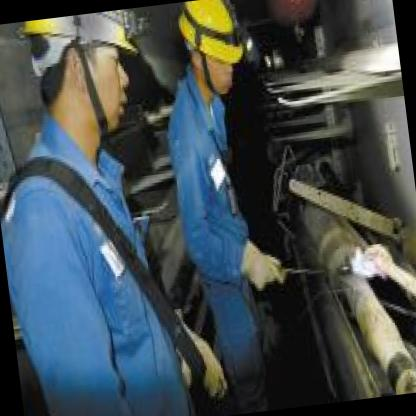helmet: (20, 11, 138, 145), (177, 1, 253, 103)
